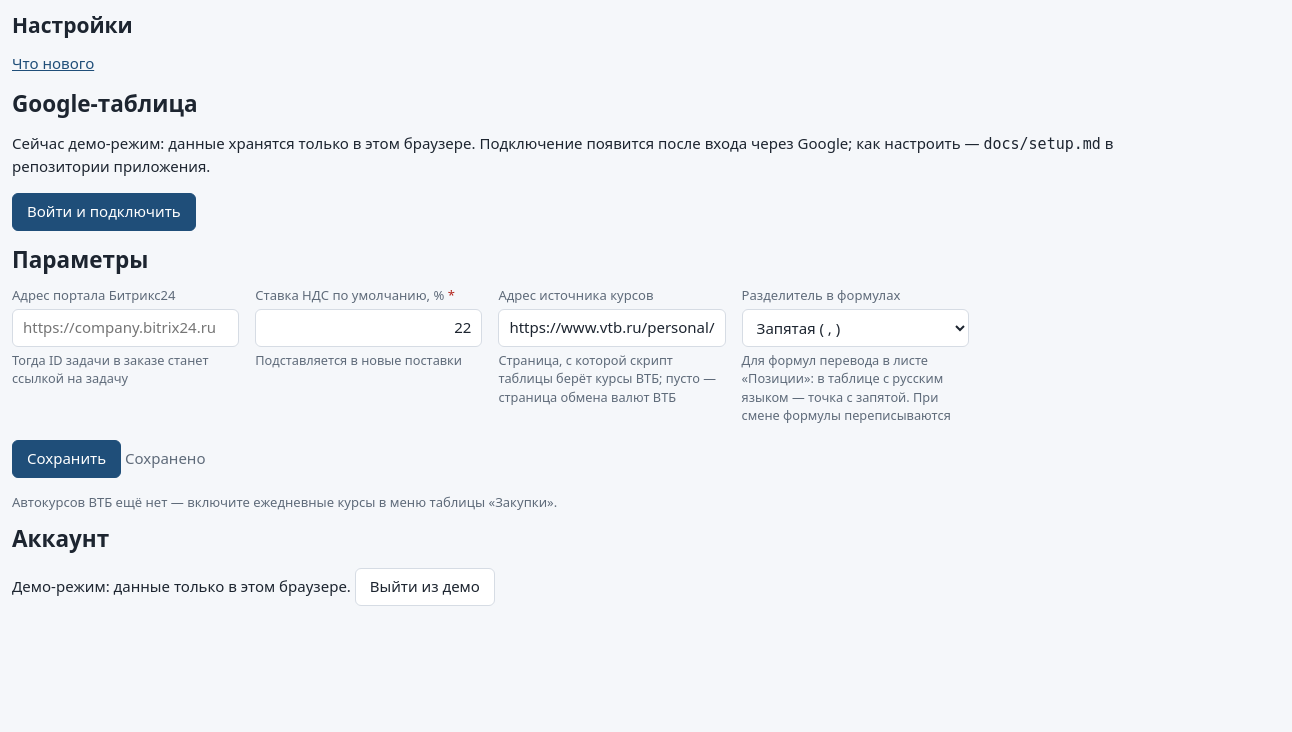
Test: экран настроек › G27: «Разделитель в формулах» — смена сохраняется и переписывает формулы перевода в «Позициях»
Select "Точка с запятой ( ; )" in the dropdown labelled "Разделитель в формулах" at coordinates (855, 328), box x1=742 y1=309 x2=969 y2=347
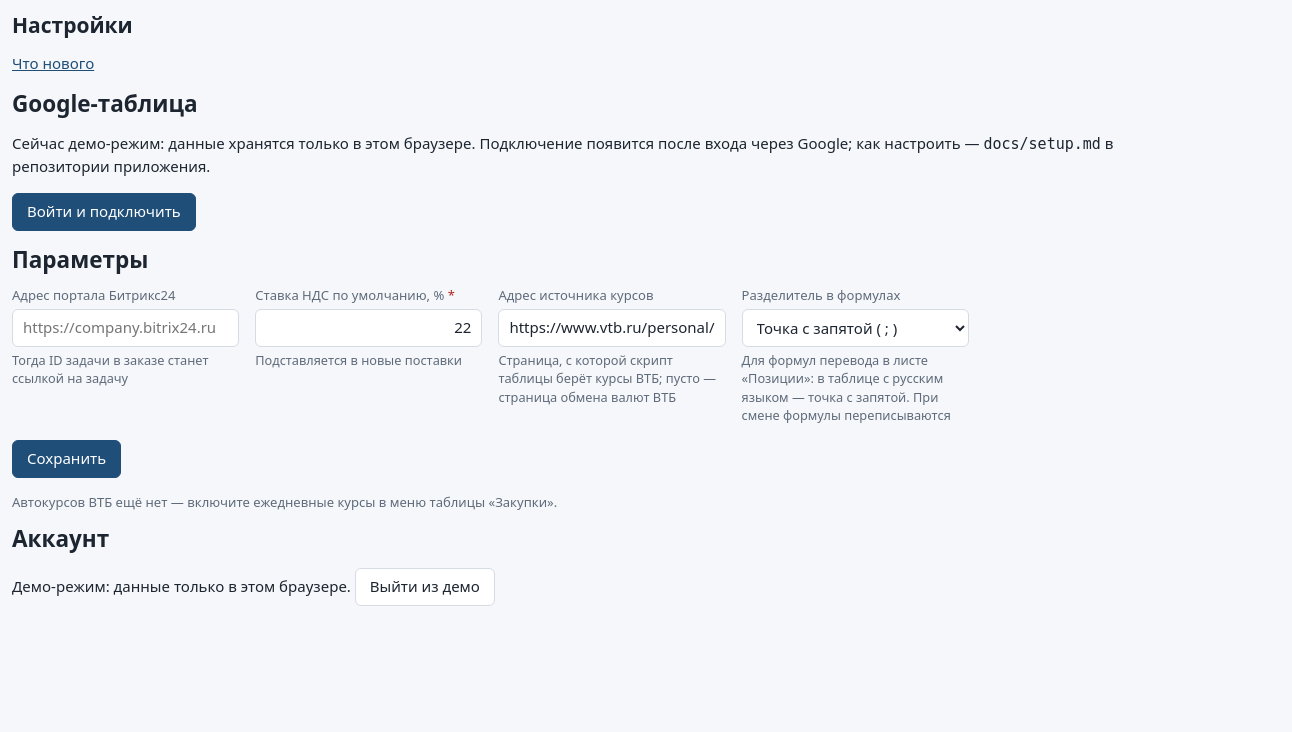
Click the button "Сохранить" at coordinates (67, 459), box x1=12 y1=440 x2=121 y2=478
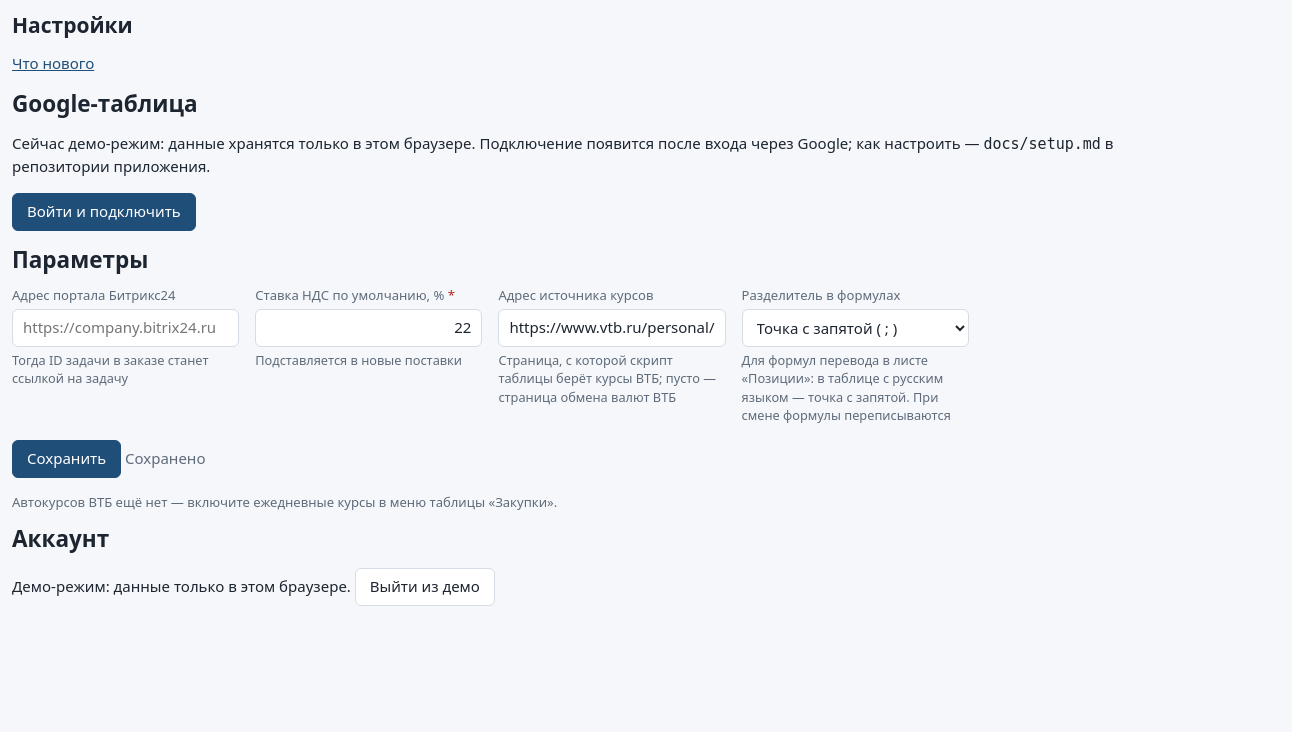
expect the text "Сохранено" is shown: met, box x1=121 y1=448 x2=206 y2=468
